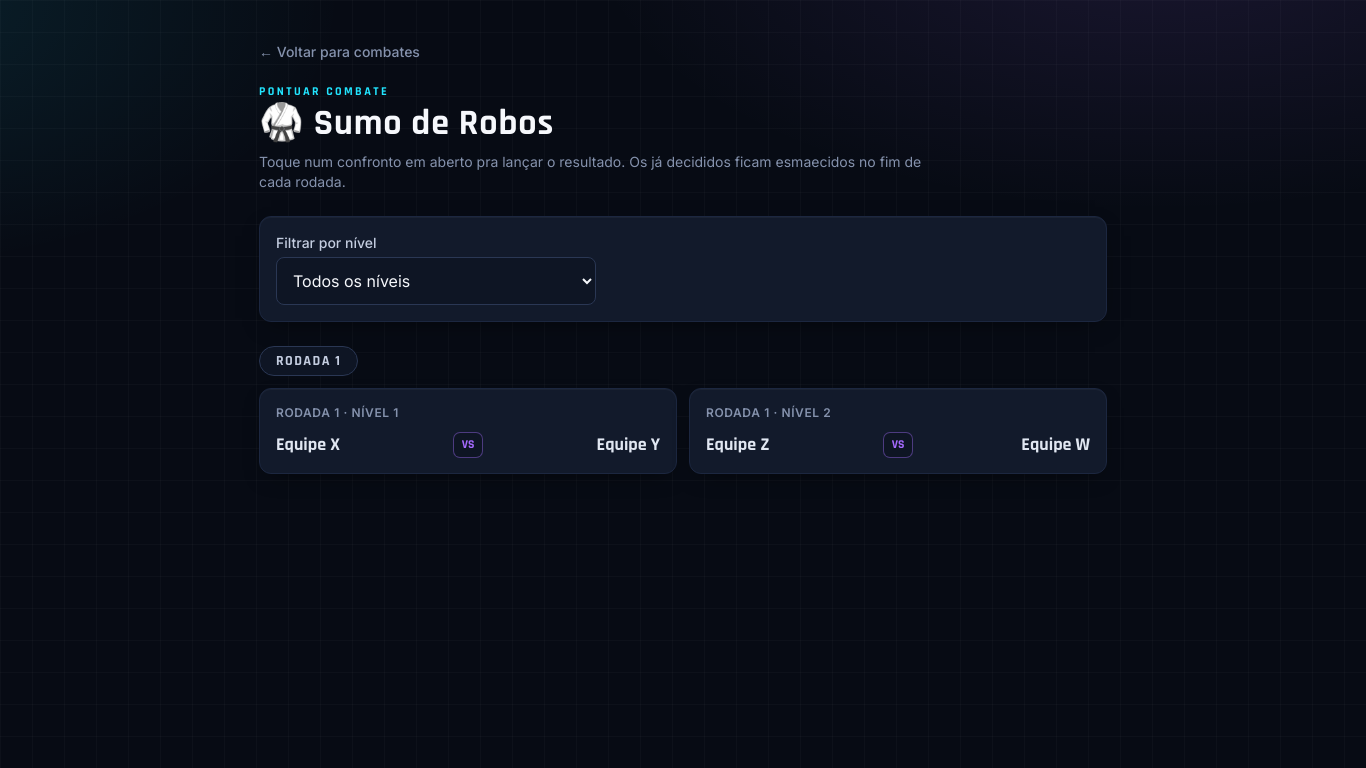
Test case: PontuarCombatePage › filtra as partidas por nivel
expect the text "Equipe X" is shown: met, box [276,433,340,456]
expect the text "Equipe Z" is shown: met, box [706,433,770,456]
Select "Nível 1" in the dropdown labelled "Filtrar por nível" at (436, 281), box [276,257,596,305]
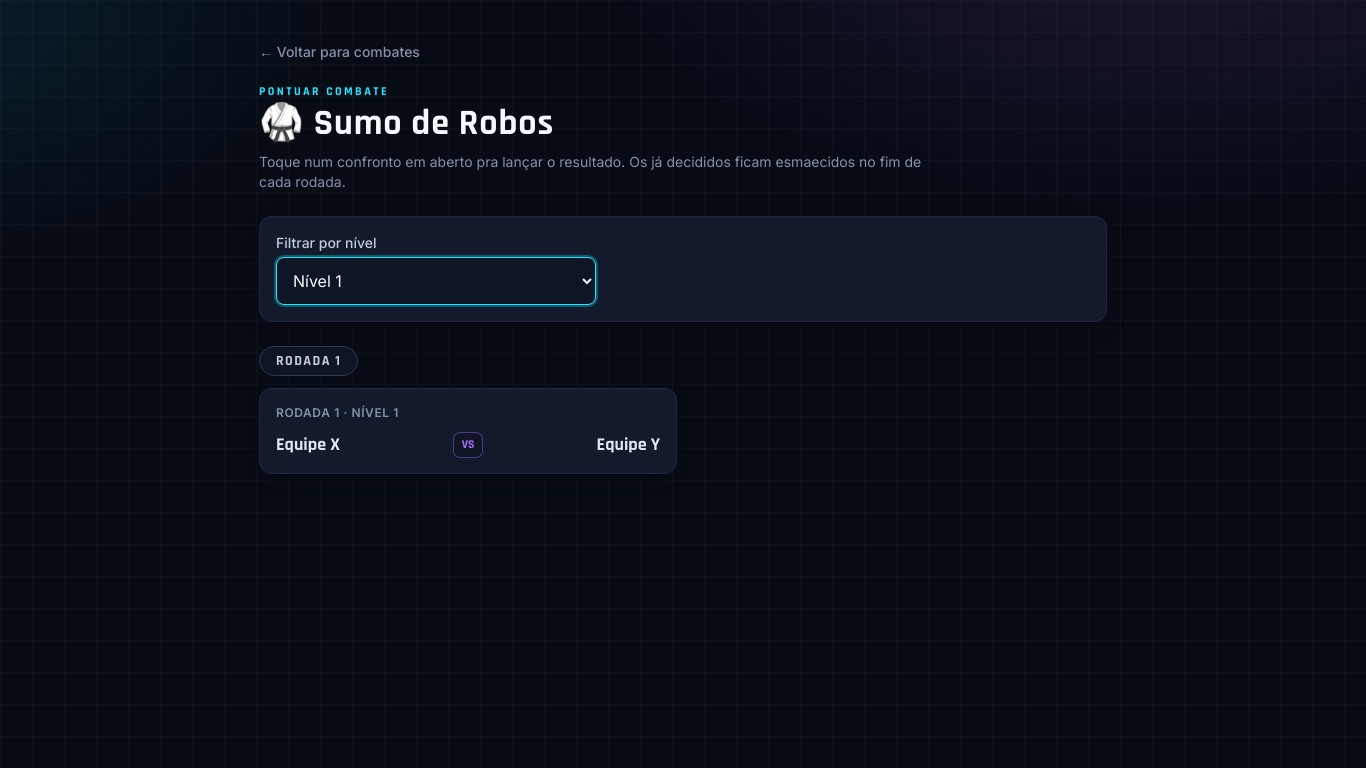
expect the text "Equipe X" is shown: met, box [276,433,340,456]
expect the link "Equipe Z" is gone: met
